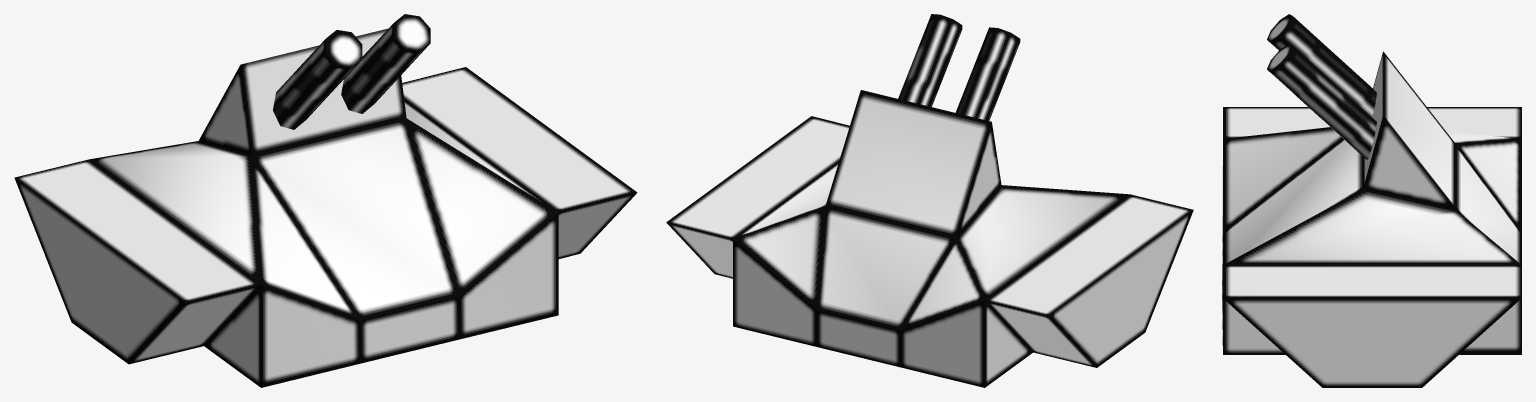
Rendered from AntiAirTank2.obj.
3 renders of one model, left to right at view 1: azimuth 30°, elevation 25°; view 2: azimuth 150°, elevation 25°; view 3: azimuth 270°, elevation 25°, orthographic. The views are drawn at different scales.
Visible parts, largest first — view 1: Box20; view 2: Box20; view 3: Box20.
Boxes of the visible parts, <box> form: Box20: <box>14,14,637,387</box>; Box20: <box>666,14,1193,387</box>; Box20: <box>1222,14,1521,387</box>.
Bounding box in the file's own units: 3.04 × 1.93 × 2.01.
Materials: 1 (1 with a texture image).
